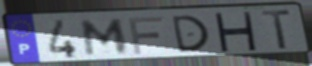4: (47, 19, 80, 60)
D: (170, 14, 212, 55)
F: (126, 15, 165, 56)
H: (212, 11, 259, 52)
M: (80, 17, 130, 57)
T: (260, 8, 294, 51)
